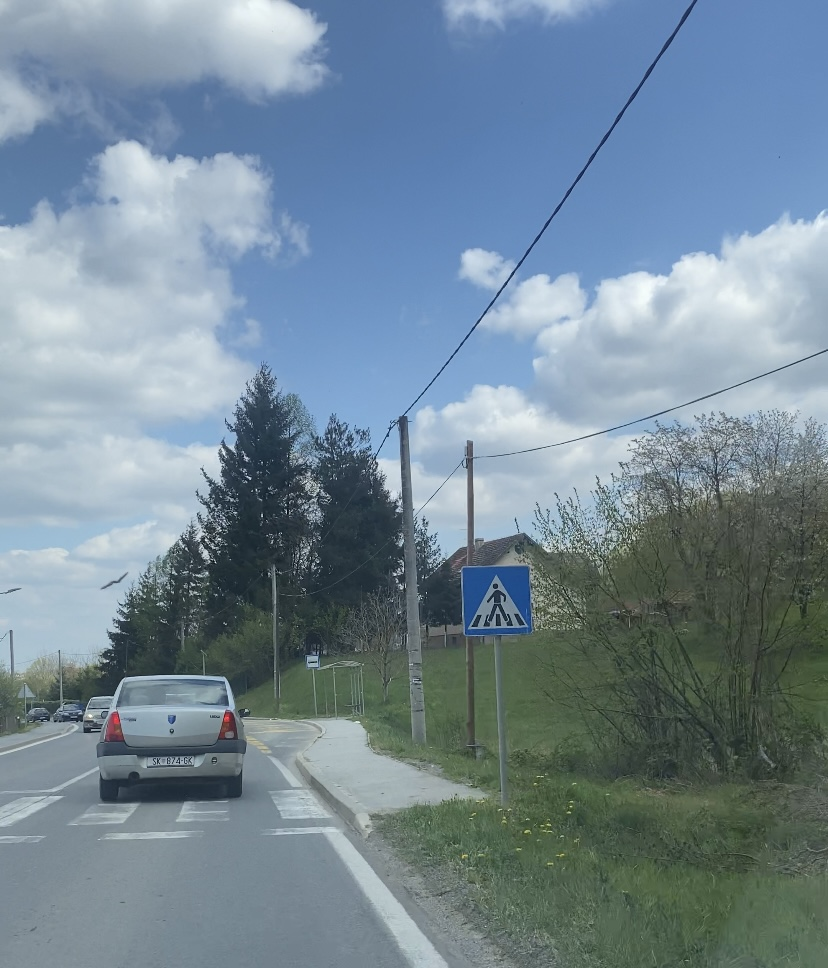Pješački prijelaz: (462, 566, 532, 636)
